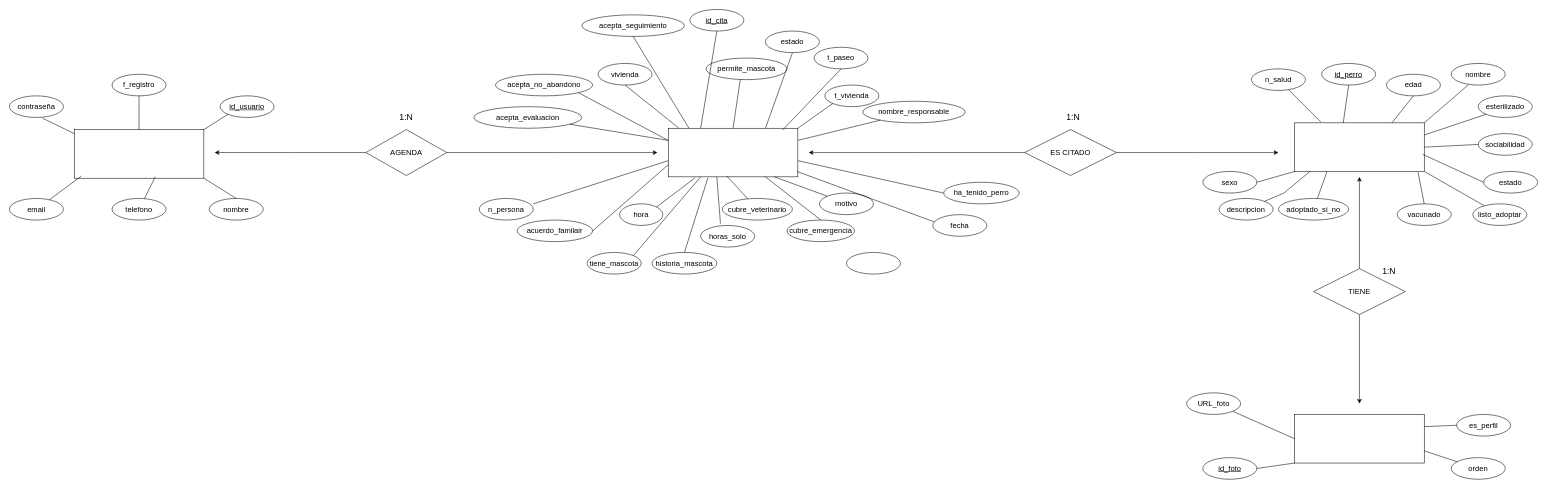
This 1547x489 diagram has some shape labels left out. Each missing label, with the centre of its shape:
"CITA" belongs at pixel 733 152.
"FOTO" belongs at pixel 1359 438.
"PERRO" belongs at pixel 1359 146.
"tipo_perro" belongs at pixel 873 263.
"USUARIO" belongs at pixel 139 153.
